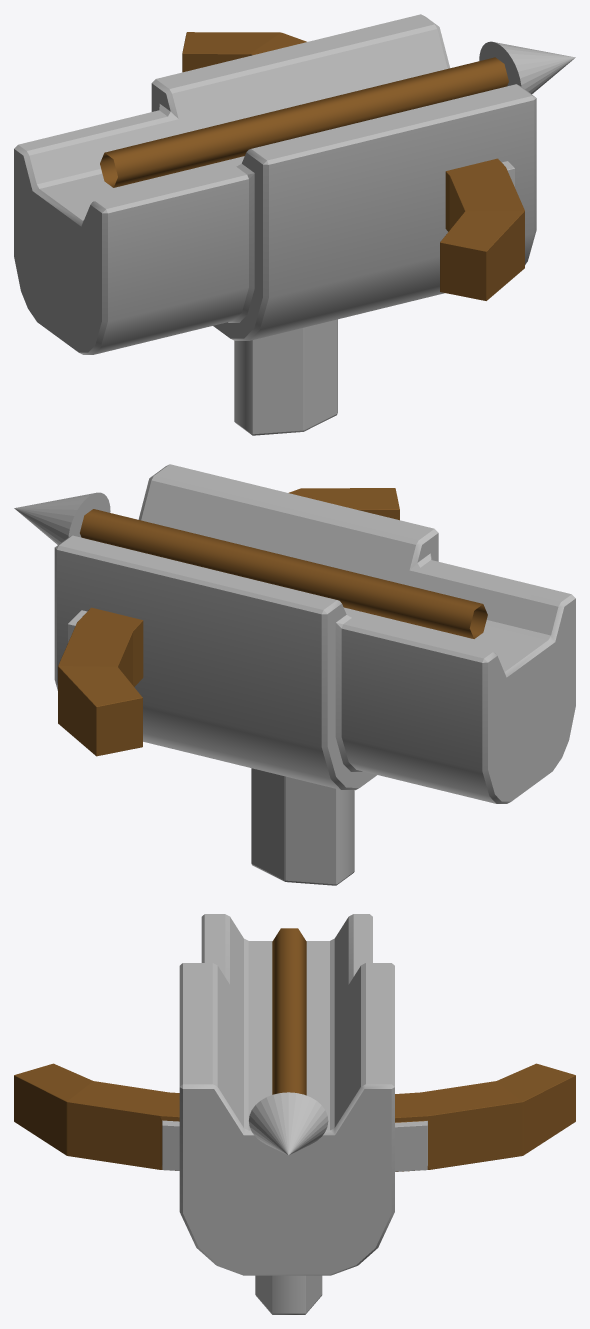
Rendered from tile_xBow.fbx.
3 renders of one model, top to bottom at view 1: azimuth 30°, elevation 25°; view 2: azimuth 150°, elevation 25°; view 3: azimuth 270°, elevation 25°, orthographic. The views are drawn at different scales.
Visible parts, largest first — view 1: Cube, Cylinder.001, Cube.001, Cylinder, Cone; view 2: Cube, Cylinder.001, Cube.001, Cylinder, Cone; view 3: Cube, Cube.001, Cylinder.001, Cone, Cylinder.
Boxes of the visible parts, bbox=[...] form: Cube: bbox=[14, 14, 536, 354]; Cylinder.001: bbox=[100, 57, 508, 187]; Cube.001: bbox=[182, 32, 524, 300]; Cylinder: bbox=[234, 319, 337, 435]; Cone: bbox=[479, 41, 575, 94]; Cube: bbox=[54, 464, 575, 803]; Cylinder.001: bbox=[80, 509, 487, 638]; Cube.001: bbox=[58, 488, 399, 756]; Cylinder: bbox=[251, 768, 354, 885]; Cone: bbox=[14, 492, 110, 544]; Cube: bbox=[179, 914, 394, 1275]; Cube.001: bbox=[14, 1063, 575, 1171]; Cylinder.001: bbox=[272, 928, 306, 1095]; Cone: bbox=[249, 1092, 328, 1155]; Cylinder: bbox=[255, 1275, 322, 1314].
Bounding box in the file's own units: 287 × 170 × 288.
